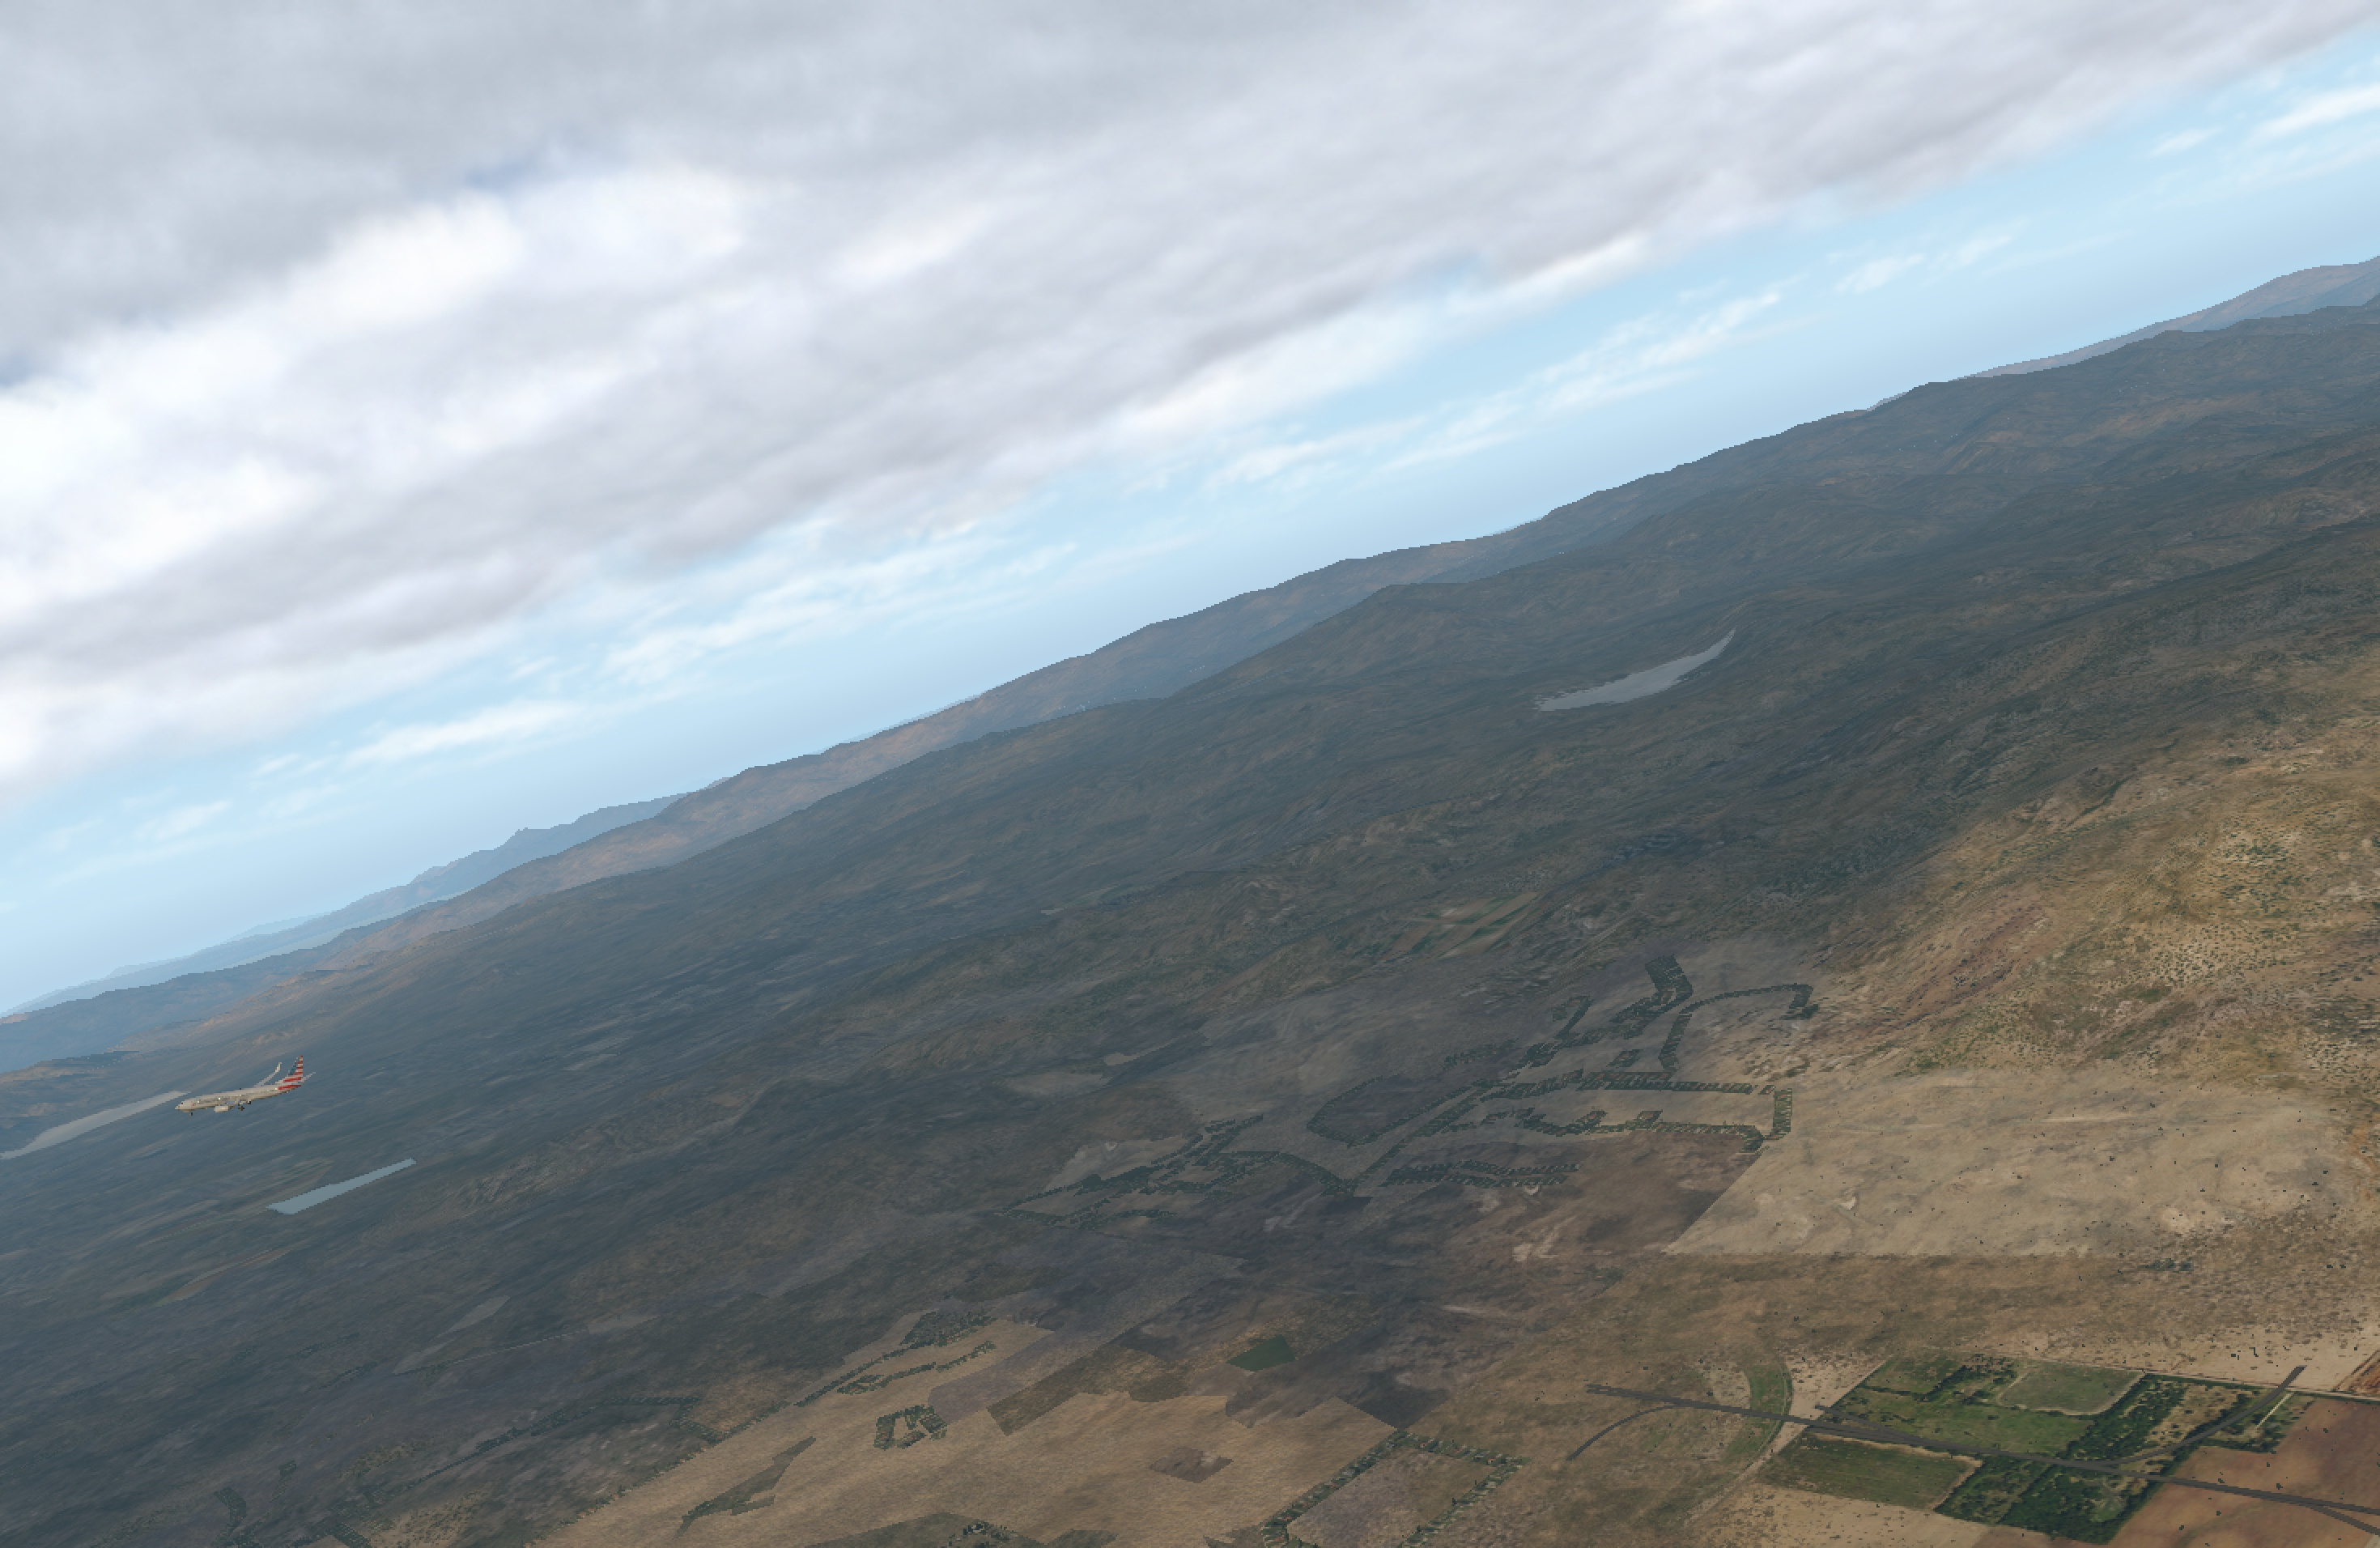aircraft: (179, 1076, 298, 1121)
